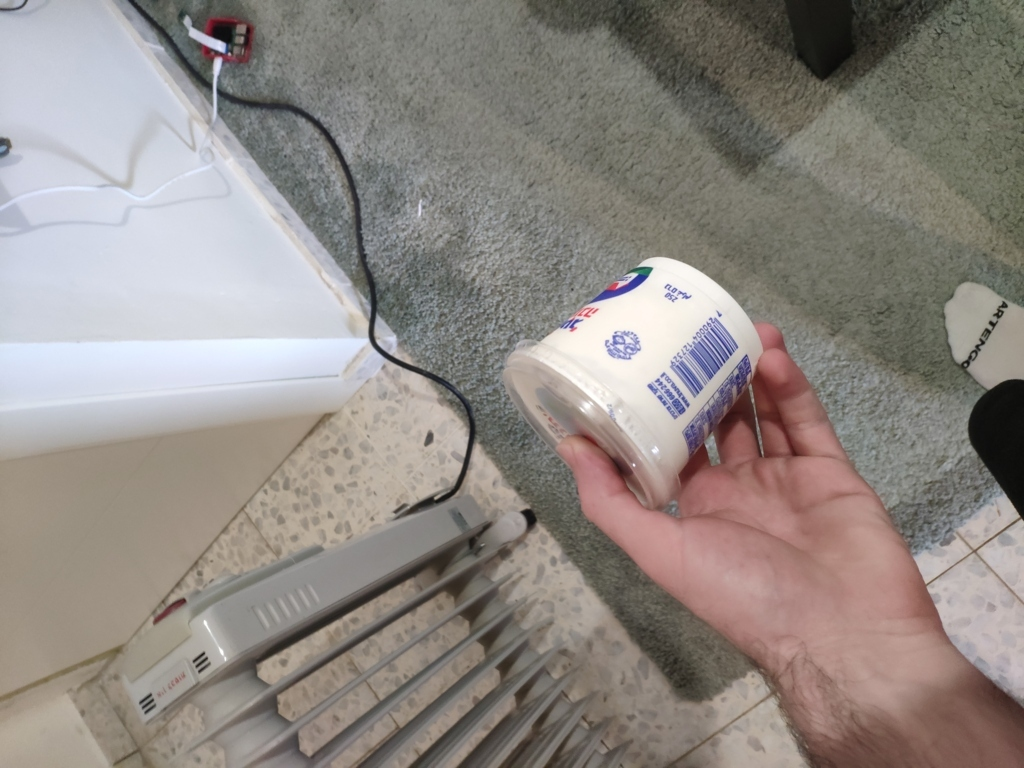Cotage: (496, 253, 775, 509)
